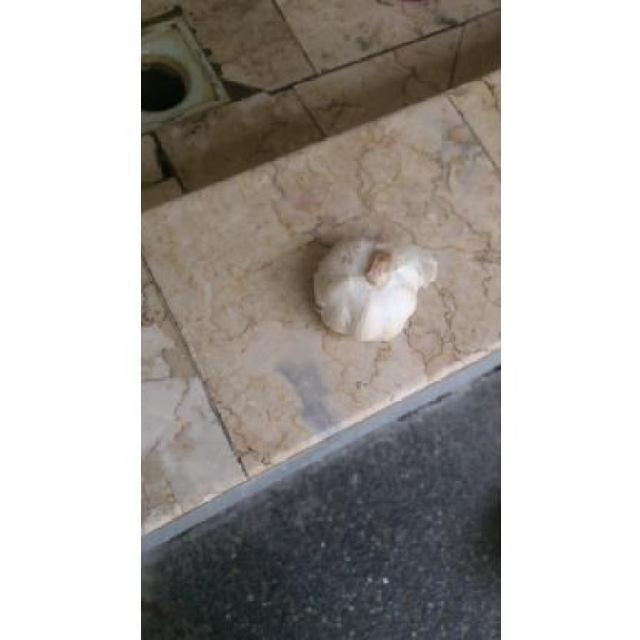garlic: (314, 240, 436, 341)
